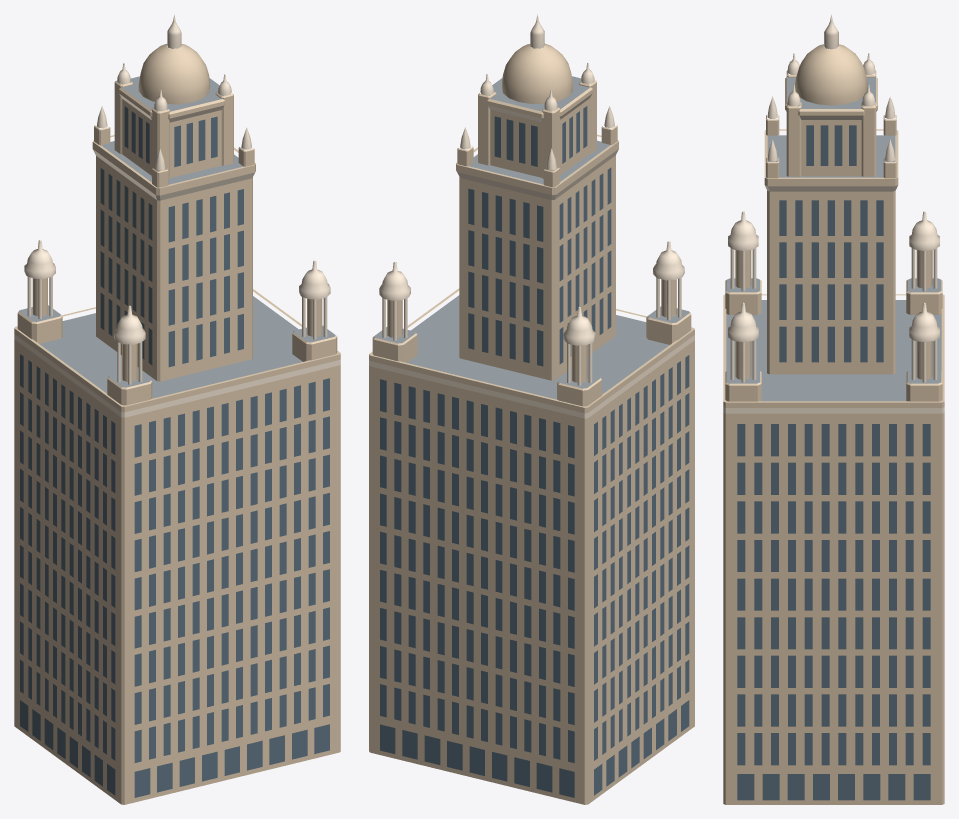
The model's file is detail.glb.
3 views of the same model, side by side, from view 1: azimuth 30°, elevation 25°; view 2: azimuth 150°, elevation 25°; view 3: azimuth 270°, elevation 25° (orthographic).
Parts seen in each view (by area): view 1: jewelers-building; view 2: jewelers-building; view 3: jewelers-building.
Boxes of the visible parts, box(x1,y1,x2,y2) form: jewelers-building: box(14, 14, 340, 804); jewelers-building: box(369, 14, 694, 804); jewelers-building: box(723, 14, 944, 804).
Size of the model in its own units: 50.84 by 161 by 43.94.
